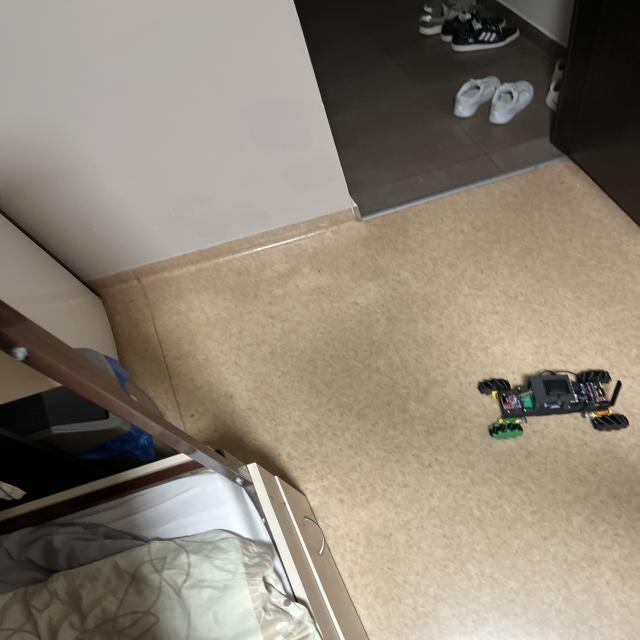robot: (477, 370, 629, 439)
